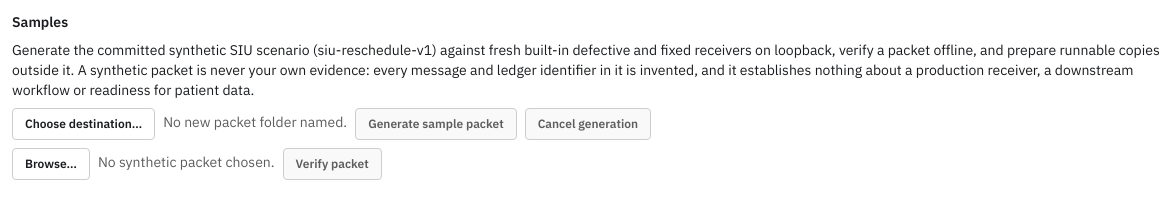
a refused or busy generation is shown as itself and never as a packet
Click the button "Choose destination…": (84, 124) [12,108,155,140]
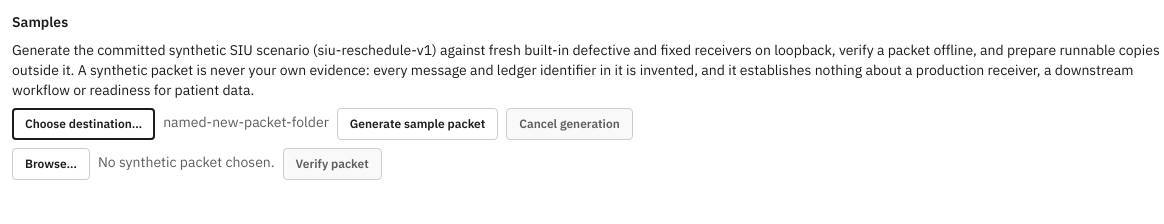
Expected: the text "named-new-packet-folder" is shown, [163,112,329,132]
Click the button "Generate sample packet": (418, 124) [337,108,498,140]
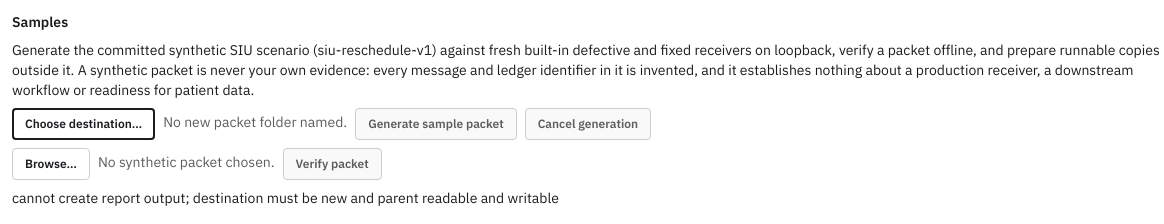
Expected: the text "destination must be new and parent readable and writable" is shown, [12,189,559,207]
Expected: the text "No new packet folder named." is shown, [163,112,347,132]
Click the button "Choose destination…": (84, 124) [12,108,155,140]
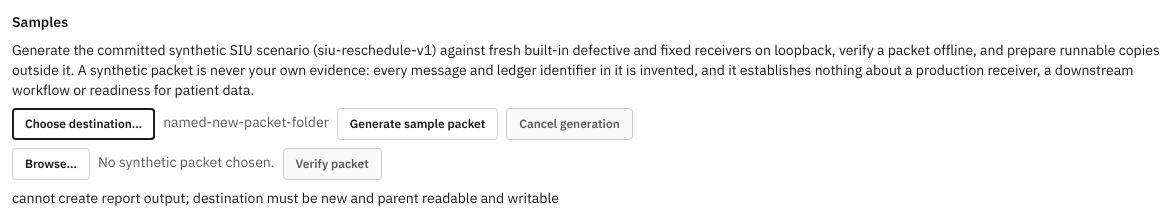
Expected: the text "named-new-packet-folder" is shown, [163,112,329,132]
Click the button "Generate sample packet": (418, 124) [337,108,498,140]
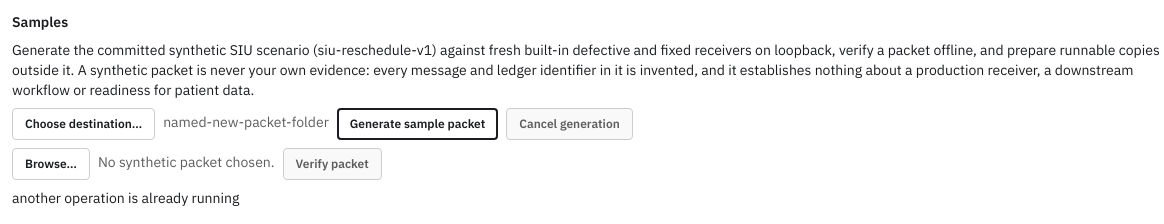
Expected: the text "named-new-packet-folder" is shown, [163,112,329,132]
Expected: the button "Generate sample packet" is enabled, [337,108,498,140]
Expected: the text "another operation is already running" is shown, [12,189,239,207]
